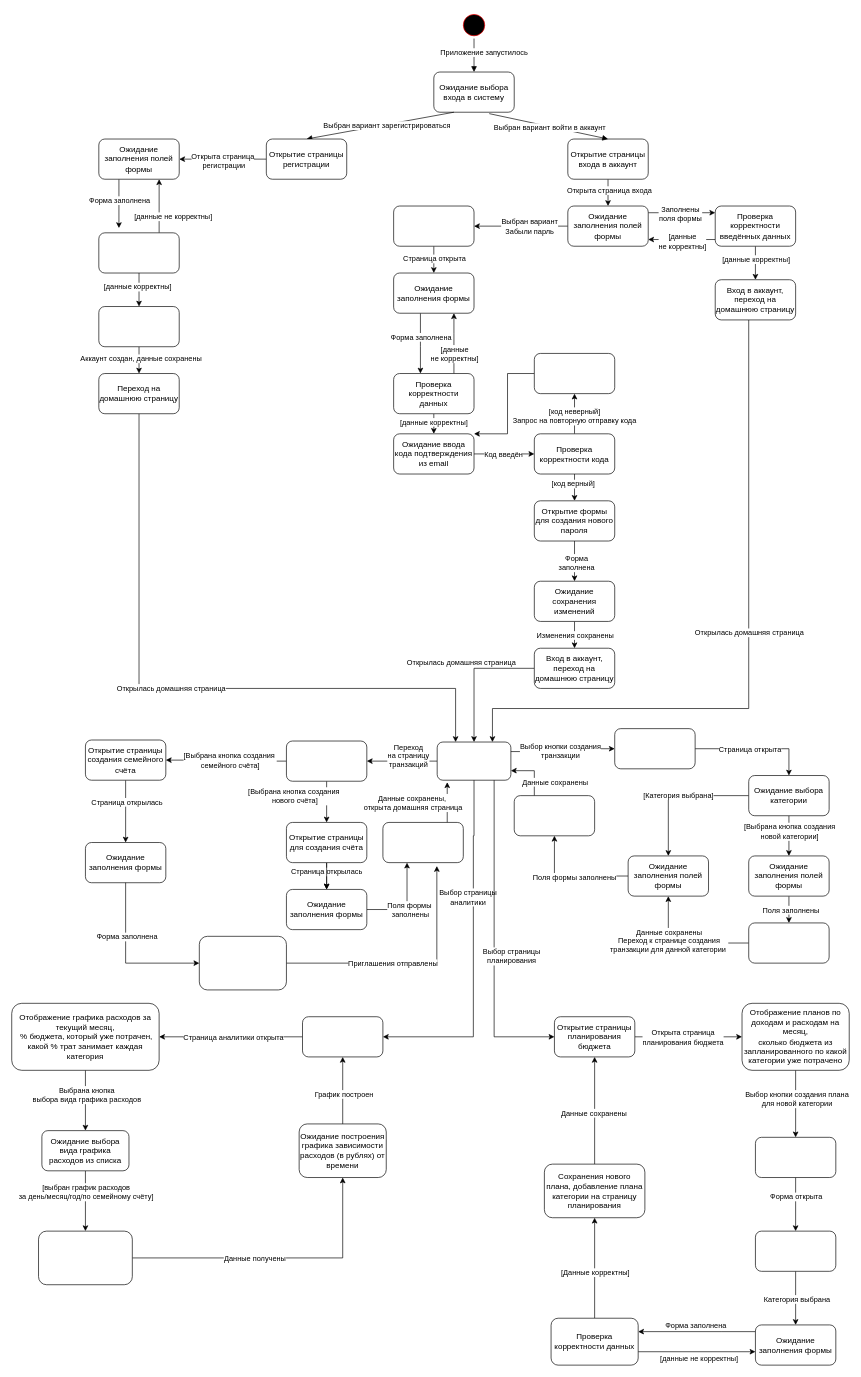
This 861x1377 diagram has some shape labels left out. Here are the shapes that lost their labels. From the top down, the box of each, then its label:
(393, 205, 474, 246): Открытие страницы восстановления пароля
(98, 232, 179, 273): Проверка корректности введённый данных
(98, 306, 179, 347): Сохранение данных, создание аккаунта
(534, 353, 615, 394): Ожидание повторной отправки кода
(286, 740, 367, 781): Открытие страницы транзакций
(437, 741, 511, 780): Ожидание выбора пользователя
(614, 728, 695, 769): Открытие страницы для создания новой транзакци
(514, 795, 595, 836): Сохранение транзакции
(382, 822, 463, 863): Сохранение счёта
(748, 922, 829, 963): Сохранение данных о новой категории
(199, 936, 286, 990): Ожидание ввода email для приглашения другим членам семьи подключить счёт
(302, 1016, 383, 1057): Открытие страницы аналитики бюджета
(755, 1137, 836, 1178): Открытие формы для создания нового плана
(38, 1230, 132, 1285): Ожидание получения данных по выбранному периоду/счёту
(755, 1230, 836, 1271): Ожидание выбора категории, по которой задается план
